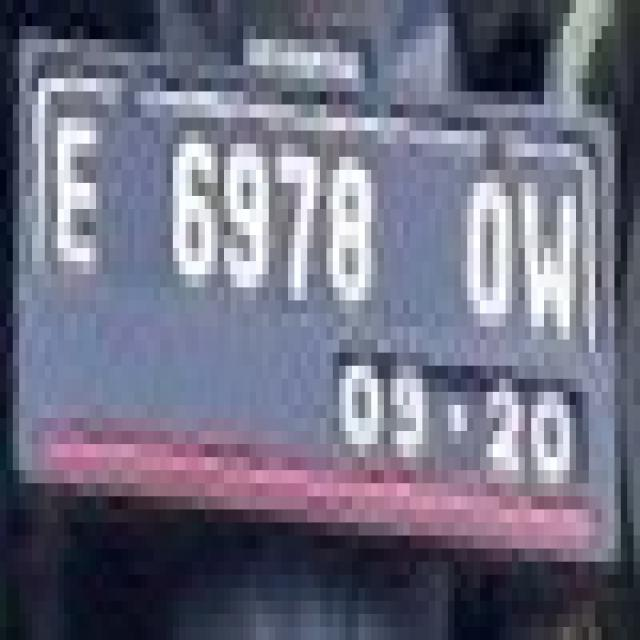plate: (7, 26, 614, 549)
